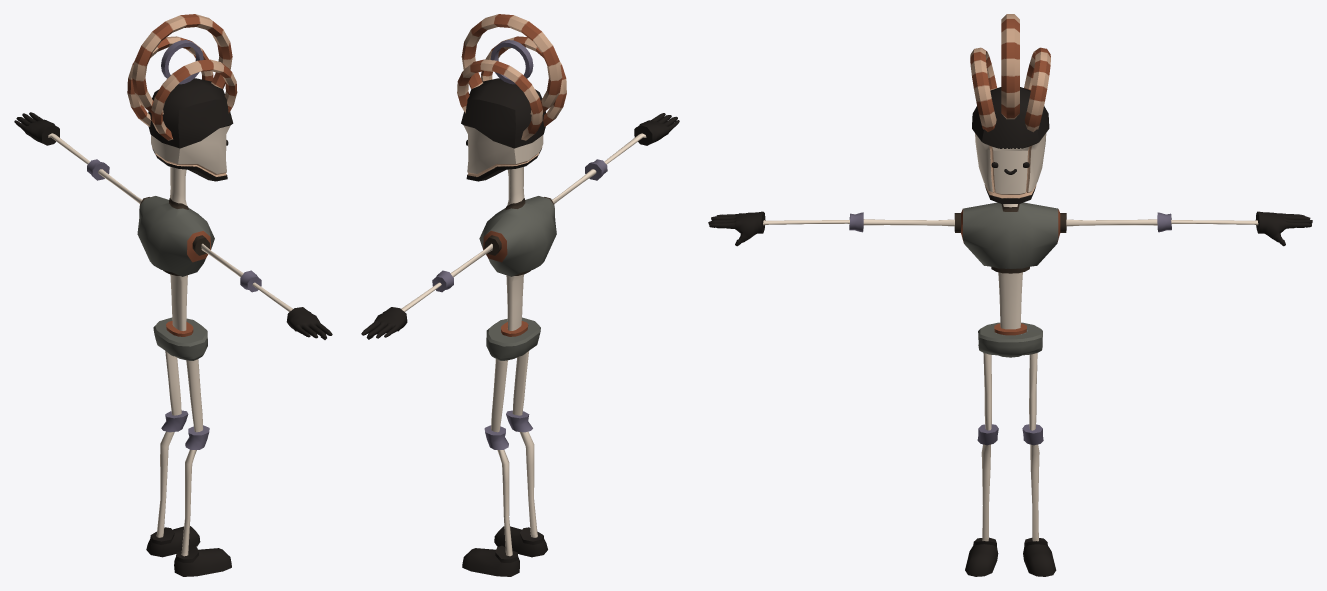
File: Slim_Ringo.glb
3 views of the same model, side by side, from view 1: azimuth 30°, elevation 25°; view 2: azimuth 150°, elevation 25°; view 3: azimuth 270°, elevation 25° (orthographic).
Visible parts, largest first — view 1: _100Avatars_117_SlimRingo; view 2: _100Avatars_117_SlimRingo; view 3: _100Avatars_117_SlimRingo.
Part boxes in pixels (x1,y1,x2,y2): _100Avatars_117_SlimRingo: [14, 14, 332, 576]; _100Avatars_117_SlimRingo: [361, 14, 679, 576]; _100Avatars_117_SlimRingo: [708, 14, 1312, 576].
Bounding box in the file's own units: 1.11 × 5.94 × 6.
Materials: 1 (1 with a texture image).
